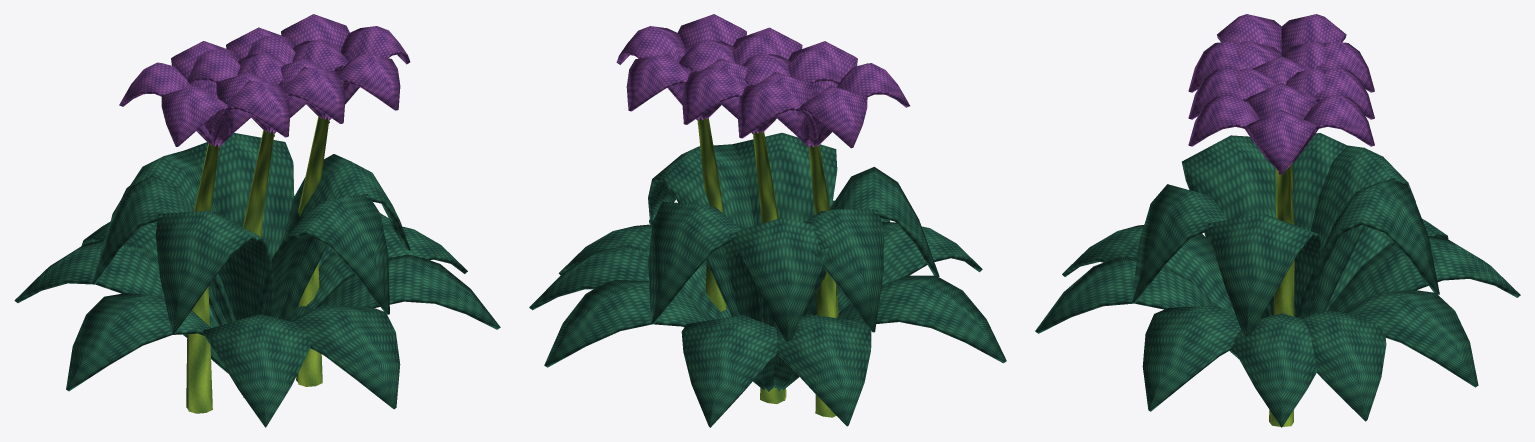
The model's file is moonflower.glb.
3 renders of one model, left to right at view 1: azimuth 30°, elevation 25°; view 2: azimuth 150°, elevation 25°; view 3: azimuth 270°, elevation 25°, orthographic.
Visible parts, largest first — view 1: moonflower_pine, moonflower_petal, moonflower_moss; view 2: moonflower_pine, moonflower_petal, moonflower_moss; view 3: moonflower_pine, moonflower_petal, moonflower_moss.
Boxes of the visible parts, x1,y1,x2,y2 form: moonflower_pine: (14, 133, 500, 427); moonflower_petal: (119, 14, 410, 149); moonflower_moss: (186, 117, 329, 413); moonflower_pine: (529, 132, 1006, 427); moonflower_petal: (616, 14, 909, 148); moonflower_moss: (697, 117, 838, 417); moonflower_pine: (1035, 133, 1520, 427); moonflower_petal: (1188, 14, 1374, 174); moonflower_moss: (1269, 164, 1294, 426).
Size of the model in its own units: 1.31 by 1 by 1.29.
3 materials, 3 textured.
